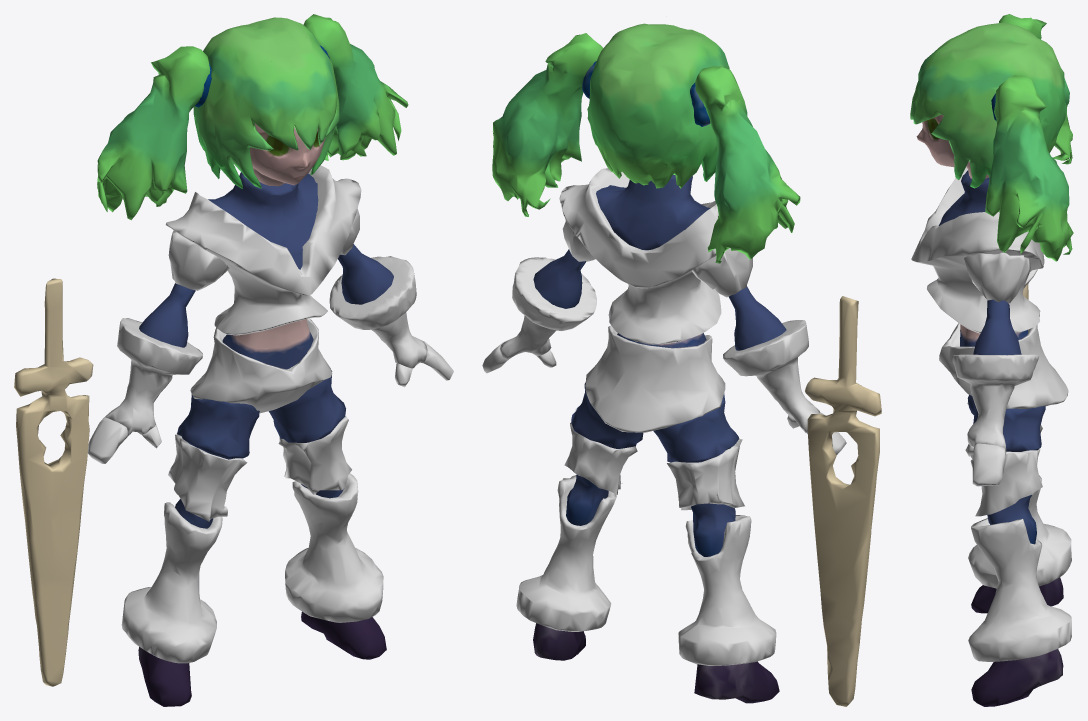
3 renders of one model, left to right at view 1: azimuth 30°, elevation 25°; view 2: azimuth 150°, elevation 25°; view 3: azimuth 270°, elevation 25°, orthographic. The views are drawn at different scales.
Parts seen in each view (by area): view 1: underleg, whig, sword, hair, body, arms_3, hiza, upleg, hip, neck, boots, arms_2 (+4 smaller); view 2: whig, sword, hair, underleg, body, hip, arms_3, hiza, neck, upleg, boots, arms_2 (+4 smaller); view 3: hair, whig, underleg, body, arms_3, boots, hip, hiza, arms_1, upleg, arms_2, arms_4 (+4 smaller).
Part boxes in pixels (left/top/right/bottom): underleg: left=121, top=473, right=383, bottom=663; whig: left=97, top=14, right=408, bottom=220; sword: left=14, top=278, right=93, bottom=686; hair: left=193, top=17, right=339, bottom=188; body: left=165, top=165, right=361, bottom=335; arms_3: left=105, top=256, right=427, bottom=434; hiza: left=168, top=416, right=351, bottom=521; upleg: left=177, top=370, right=345, bottom=459; hip: left=190, top=318, right=332, bottom=413; neck: left=208, top=172, right=318, bottom=269; boots: left=138, top=611, right=386, bottom=706; arms_2: left=139, top=244, right=393, bottom=347; whig: left=492, top=33, right=800, bottom=263; sword: left=805, top=296, right=881, bottom=706; hair: left=587, top=23, right=729, bottom=188; underleg: left=516, top=475, right=776, bottom=665; body: left=559, top=168, right=721, bottom=344; hip: left=585, top=325, right=725, bottom=432; arms_3: left=499, top=257, right=819, bottom=432; hiza: left=564, top=408, right=744, bottom=510; neck: left=596, top=174, right=710, bottom=250; upleg: left=571, top=382, right=739, bottom=462; boots: left=533, top=623, right=779, bottom=703; arms_2: left=533, top=249, right=786, bottom=350; hair: left=910, top=22, right=1066, bottom=188; whig: left=985, top=14, right=1073, bottom=261; underleg: left=968, top=459, right=1071, bottom=661; body: left=911, top=167, right=1044, bottom=333; arms_3: left=952, top=269, right=1039, bottom=452; boots: left=971, top=577, right=1063, bottom=706; hip: left=939, top=323, right=1068, bottom=408; hiza: left=967, top=402, right=1042, bottom=516; arms_1: left=964, top=252, right=1030, bottom=303; upleg: left=967, top=395, right=1045, bottom=451; arms_2: left=973, top=299, right=1021, bottom=355; arms_4: left=965, top=443, right=1005, bottom=486.
Size of the model in its own units: 2.74 by 0.9706 by 4.08.
